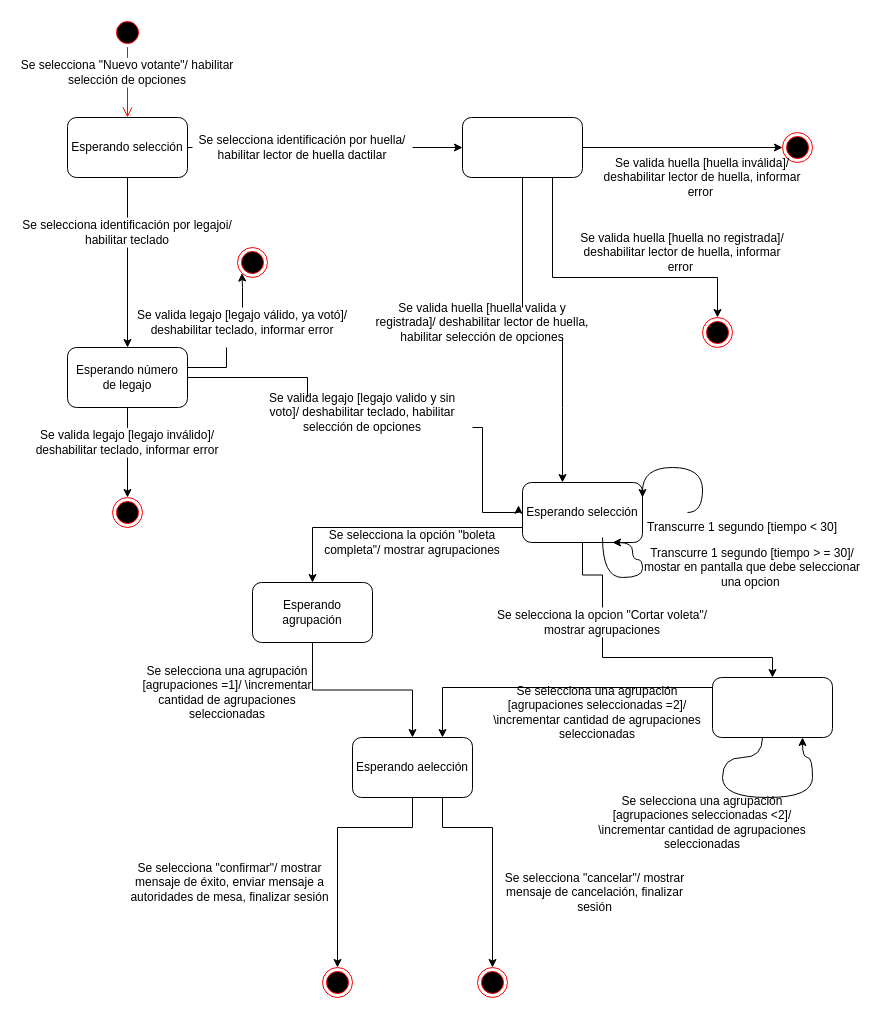
Image size: 879x1015. Some labels were removed from this diagram. Each missing label, with the centre of its shape:
Esperando agrupaciones: [772,707]
Esperando huella: [522,147]
